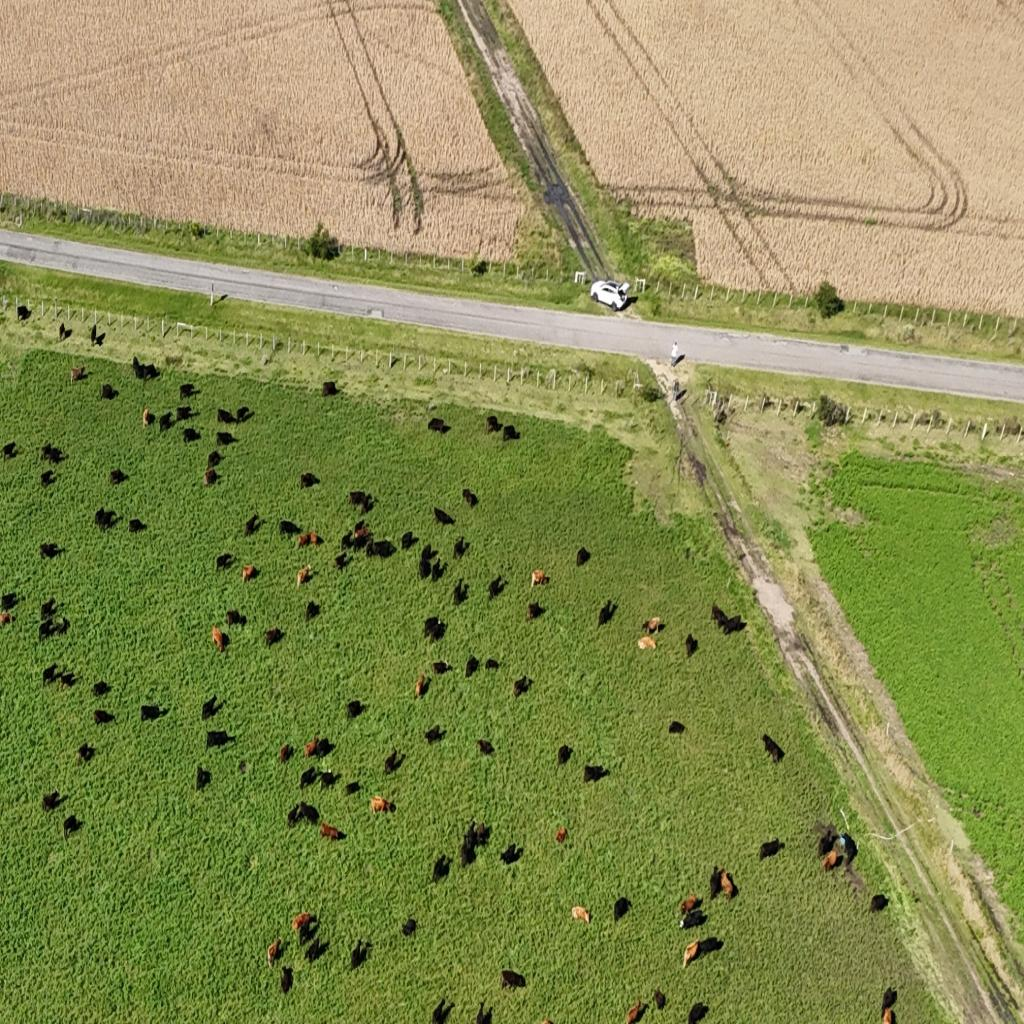cow: (288, 801, 320, 826), (762, 733, 785, 763), (132, 358, 160, 382), (422, 616, 446, 642), (305, 936, 327, 964), (460, 830, 476, 868), (348, 490, 374, 513), (205, 729, 234, 749), (367, 540, 396, 560), (500, 968, 526, 990), (697, 935, 723, 957), (350, 938, 369, 968), (709, 867, 726, 899), (682, 939, 700, 969), (817, 831, 836, 859), (94, 508, 118, 530), (680, 908, 704, 930), (598, 600, 616, 628), (720, 870, 736, 901), (432, 855, 450, 882), (760, 838, 782, 860), (722, 614, 745, 635), (679, 894, 700, 917), (625, 1000, 645, 1024), (384, 749, 402, 775), (418, 550, 433, 581), (500, 843, 521, 865), (583, 764, 606, 784), (688, 1001, 708, 1024), (41, 444, 64, 464), (292, 912, 312, 935), (822, 849, 842, 872), (432, 998, 450, 1023), (711, 603, 729, 628), (452, 579, 468, 607), (614, 896, 631, 922), (433, 506, 455, 526), (370, 795, 393, 814), (300, 766, 318, 790), (319, 822, 343, 840), (474, 820, 490, 847), (488, 576, 505, 601), (643, 616, 664, 636), (314, 737, 334, 758), (512, 676, 531, 698), (201, 696, 219, 719), (297, 530, 320, 548), (211, 626, 226, 653), (264, 627, 284, 647), (64, 814, 80, 839), (76, 744, 96, 764), (317, 770, 337, 790), (299, 921, 315, 946), (93, 708, 115, 726), (140, 704, 162, 722), (42, 790, 60, 812), (427, 417, 449, 435), (196, 764, 211, 790), (267, 938, 282, 964), (881, 986, 897, 1010), (279, 520, 301, 537), (476, 1000, 492, 1023), (870, 893, 888, 913), (425, 726, 445, 744), (0, 592, 18, 612), (224, 609, 244, 627), (217, 407, 237, 425), (352, 525, 372, 543), (557, 744, 573, 766), (40, 542, 62, 558), (244, 514, 260, 536), (453, 537, 469, 559), (38, 620, 54, 642), (304, 737, 320, 759), (280, 965, 292, 994), (346, 700, 364, 719), (215, 553, 234, 571), (526, 601, 544, 620), (572, 905, 590, 924), (637, 635, 657, 652), (158, 411, 174, 432), (414, 674, 428, 698), (430, 558, 444, 582), (341, 528, 357, 549), (465, 820, 478, 845), (502, 424, 520, 442), (476, 738, 494, 756), (1, 442, 19, 460), (59, 671, 77, 689), (531, 569, 549, 587), (462, 488, 478, 508), (401, 917, 417, 937), (485, 415, 501, 435), (42, 664, 58, 684), (40, 597, 56, 617), (178, 384, 198, 400), (54, 616, 70, 636), (297, 565, 312, 586), (653, 986, 666, 1010), (305, 600, 319, 622), (420, 542, 434, 564), (92, 326, 106, 348), (401, 532, 418, 550), (40, 471, 58, 488), (236, 406, 254, 423), (301, 472, 320, 488), (100, 384, 119, 400), (92, 681, 111, 697), (685, 633, 697, 658), (431, 661, 451, 676), (465, 656, 479, 677), (278, 743, 292, 764), (110, 468, 128, 484), (70, 365, 86, 383), (576, 547, 590, 567), (216, 431, 236, 445), (242, 564, 256, 584), (334, 552, 348, 572), (58, 322, 72, 342), (322, 380, 338, 397), (128, 518, 146, 533), (204, 467, 218, 486), (183, 428, 200, 443), (17, 305, 31, 323), (882, 1006, 896, 1024), (176, 405, 192, 420), (668, 720, 685, 734), (345, 781, 361, 795), (207, 450, 219, 467), (0, 610, 12, 626), (142, 408, 152, 427), (485, 658, 499, 671), (556, 826, 566, 843), (238, 758, 246, 774)
